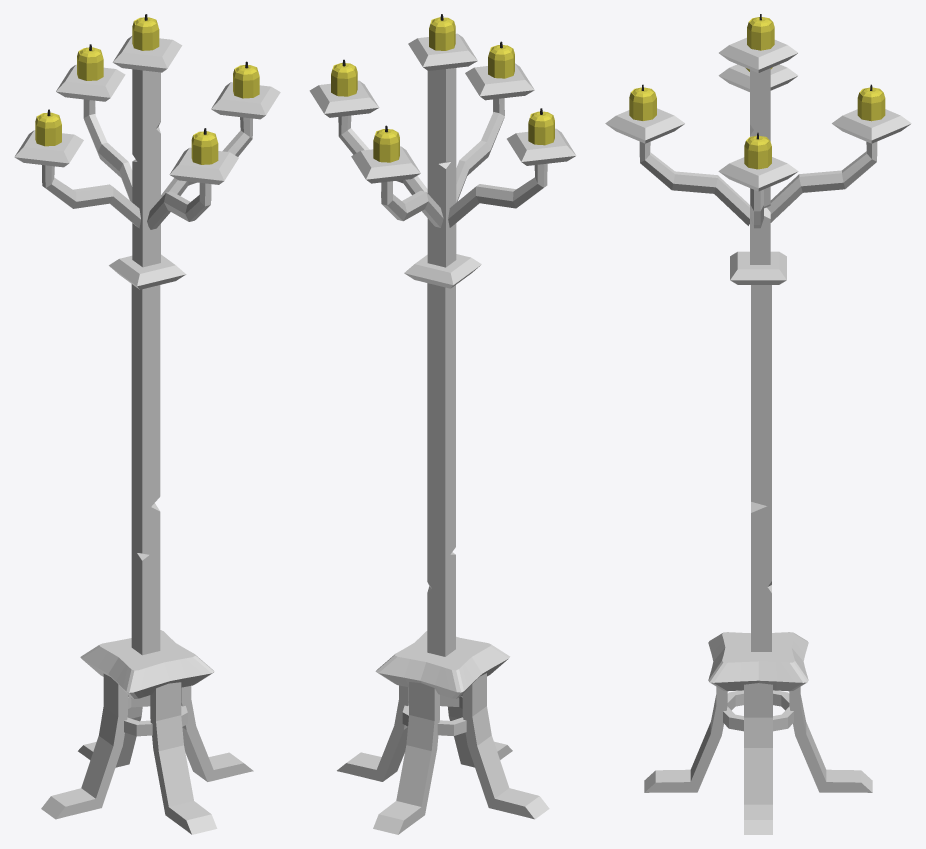
The model's file is chandelier.fbx.
The picture shows the model from 3 angles, left to right: view 1: azimuth 30°, elevation 25°; view 2: azimuth 150°, elevation 25°; view 3: azimuth 270°, elevation 25°; orthographic projection.
Parts seen in each view (by area): view 1: chandelier, Cylinder, Cylinder.001, Cylinder.002, Cylinder.003, Cylinder.005; view 2: chandelier, Cylinder.005, Cylinder.001, Cylinder.002, Cylinder.003, Cylinder; view 3: chandelier, Cylinder.003, Cylinder.001, Cylinder, Cylinder.005.
Part boxes in pixels (x1=…): chandelier: x1=14, y1=36, x2=280, y2=834; Cylinder: x1=132, y1=14, x2=159, y2=50; Cylinder.001: x1=191, y1=128, x2=218, y2=164; Cylinder.002: x1=35, y1=109, x2=61, y2=146; Cylinder.003: x1=77, y1=44, x2=103, y2=80; Cylinder.005: x1=233, y1=61, x2=259, y2=98; chandelier: x1=309, y1=33, x2=576, y2=834; Cylinder.005: x1=331, y1=59, x2=357, y2=96; Cylinder.001: x1=488, y1=41, x2=514, y2=78; Cylinder.002: x1=528, y1=108, x2=554, y2=145; Cylinder.003: x1=373, y1=125, x2=399, y2=162; Cylinder: x1=429, y1=14, x2=455, y2=50; chandelier: x1=605, y1=37, x2=911, y2=834; Cylinder.003: x1=857, y1=84, x2=885, y2=121; Cylinder.001: x1=629, y1=84, x2=656, y2=120; Cylinder: x1=747, y1=14, x2=774, y2=50; Cylinder.005: x1=744, y1=132, x2=771, y2=169.
Size of the model in its own units: 63.33 by 176 by 63.33.
